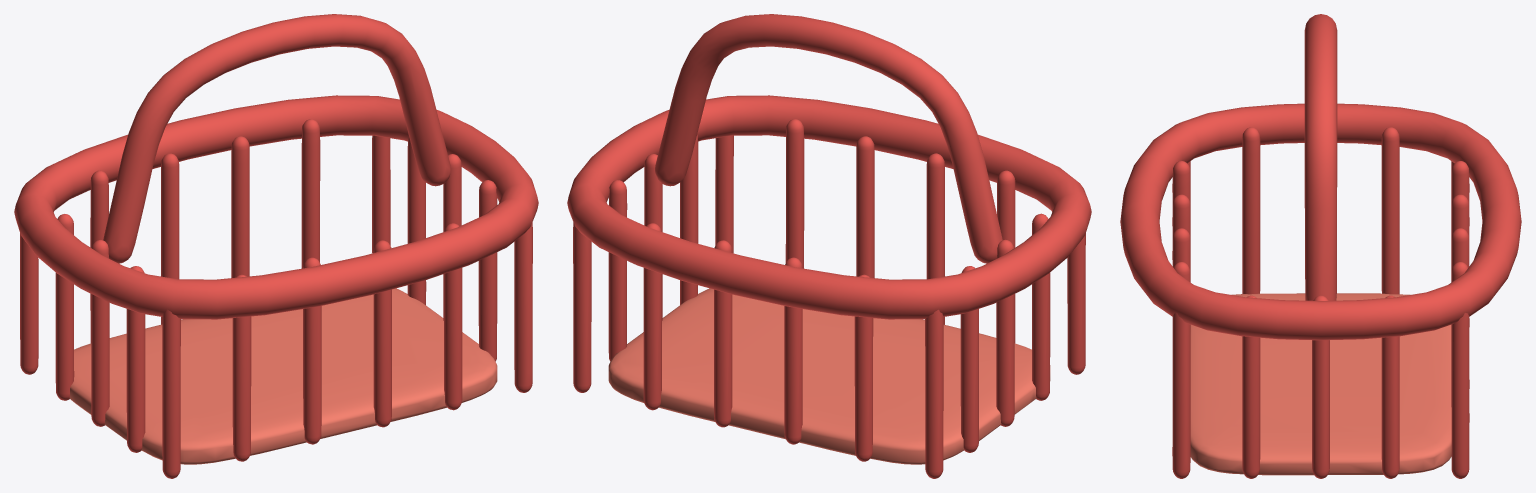
The model's file is canasta.glb.
3 renders of one model, left to right at view 1: azimuth 30°, elevation 25°; view 2: azimuth 150°, elevation 25°; view 3: azimuth 270°, elevation 25°, orthographic. The views are drawn at different scales.
Parts seen in each view (by area): view 1: marco canasta.007, fondo canasta.007, asa.005, barrote.130, barrote.140, barrote.132, barrote.142, barrote.134, barrote.138, barrote.139, barrote.136, barrote.137 (+9 smaller); view 2: marco canasta.007, fondo canasta.007, asa.005, barrote.131, barrote.141, barrote.135, barrote.133, barrote.139, barrote.137, barrote.146, barrote.138, barrote.136 (+9 smaller); view 3: marco canasta.007, fondo canasta.007, asa.005, barrote.146, barrote.142, barrote.140, barrote.141, barrote.147, barrote.143, barrote.145, barrote.136, barrote.135 (+4 smaller).
Boxes of the visible parts, x1,y1,x2,y2 form: marco canasta.007: (14,95,538,319); fondo canasta.007: (69,288,497,464); asa.005: (103,14,450,263); barrote.130: (162,309,180,478); barrote.140: (514,221,532,392); barrote.132: (232,274,251,461); barrote.142: (126,266,145,452); barrote.134: (303,257,321,444); barrote.138: (444,223,462,410); barrote.139: (301,119,320,268); barrote.136: (373,240,391,427); barrote.137: (231,136,249,277); marco canasta.007: (567,95,1091,319); fondo canasta.007: (608,288,1050,464); asa.005: (655,14,1002,263); barrote.131: (925,309,943,478); barrote.141: (573,221,591,392); barrote.135: (784,257,802,444); barrote.133: (854,274,873,461); barrote.139: (643,223,661,410); barrote.137: (714,240,732,427); barrote.146: (960,266,978,452); barrote.138: (785,119,804,268); barrote.136: (856,136,874,277); marco canasta.007: (1120,103,1521,340); fondo canasta.007: (1190,293,1451,475); asa.005: (1304,14,1337,300); barrote.146: (1381,127,1399,294); barrote.142: (1242,127,1260,294); barrote.140: (1172,313,1190,478); barrote.141: (1451,313,1469,478); barrote.147: (1381,295,1399,478); barrote.143: (1242,295,1260,478); barrote.145: (1312,295,1329,478); barrote.136: (1172,228,1190,333); barrote.135: (1451,194,1469,243).
Size of the model in its own units: 0.5091 by 0.3946 by 0.4029.
